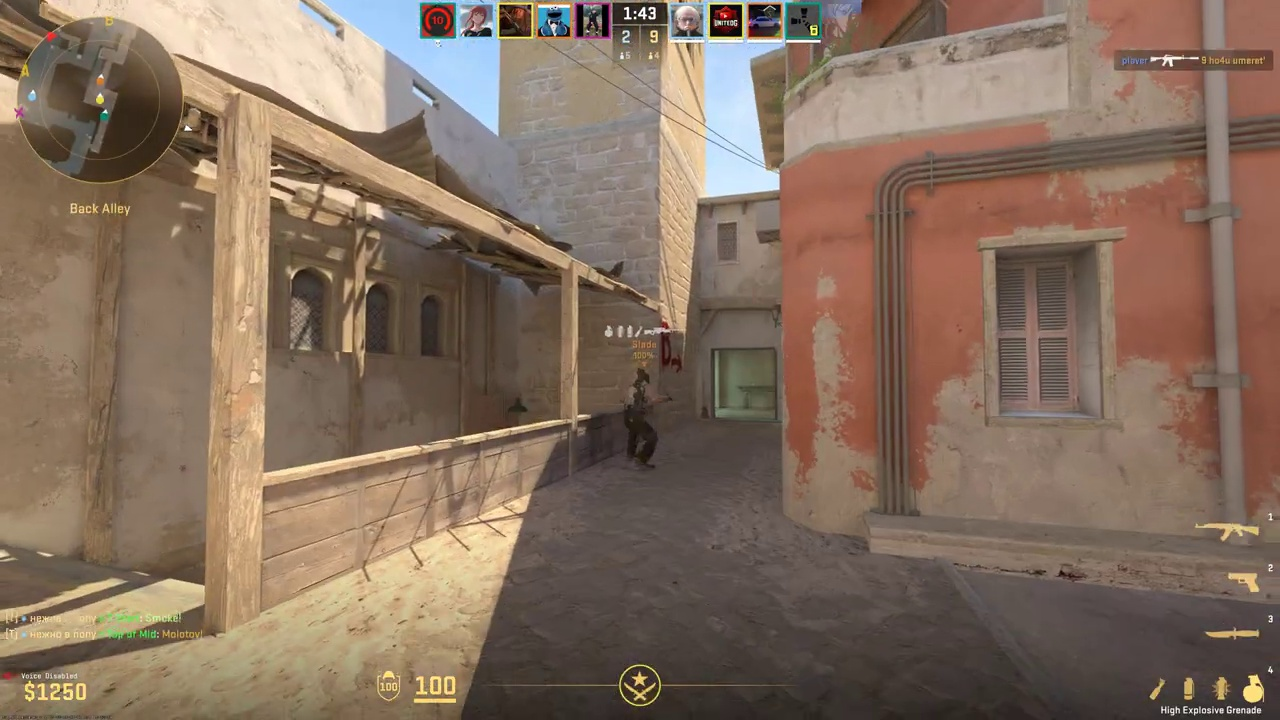Terrorist: (624, 370, 658, 469)
